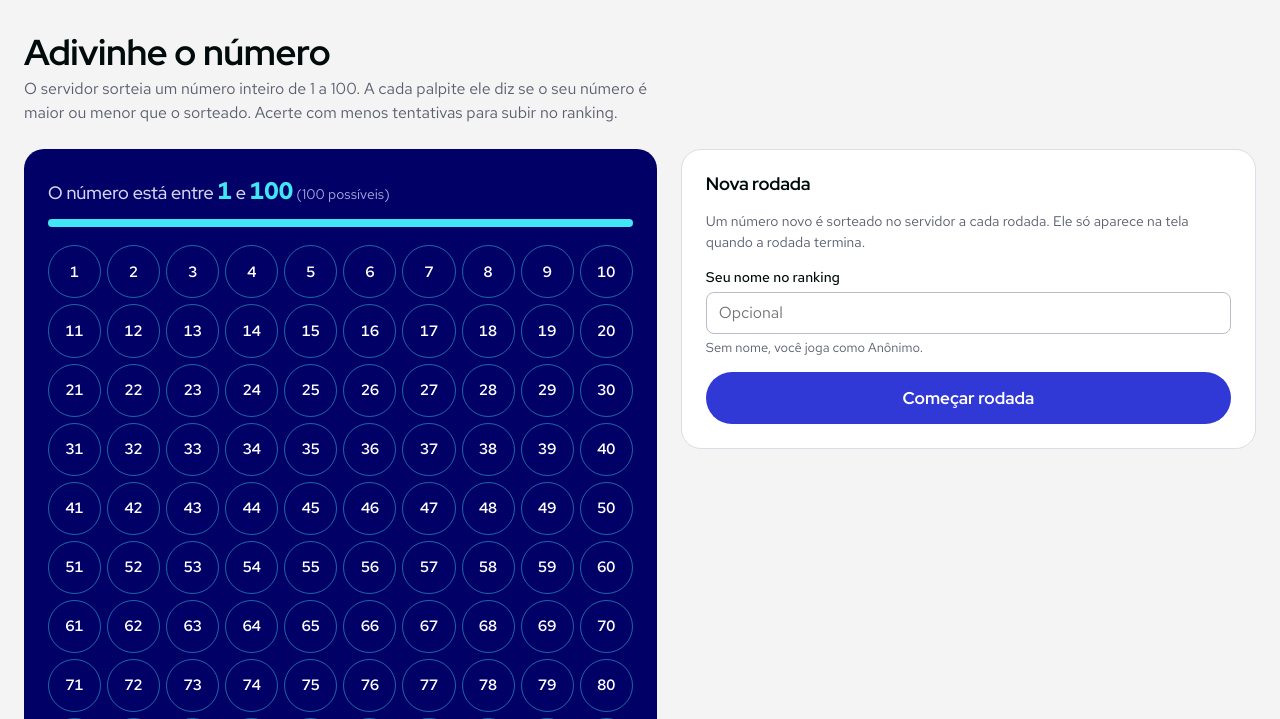
it: <Jogar /> (fluxo completo com a API mockada) › começa uma rodada, recebe 'maior', depois acerta e vê a posição no ranking
In the field labelled "Seu nome no ranking": (968, 313) top-left (706, 292), bottom-right (1231, 334), type "Ana"
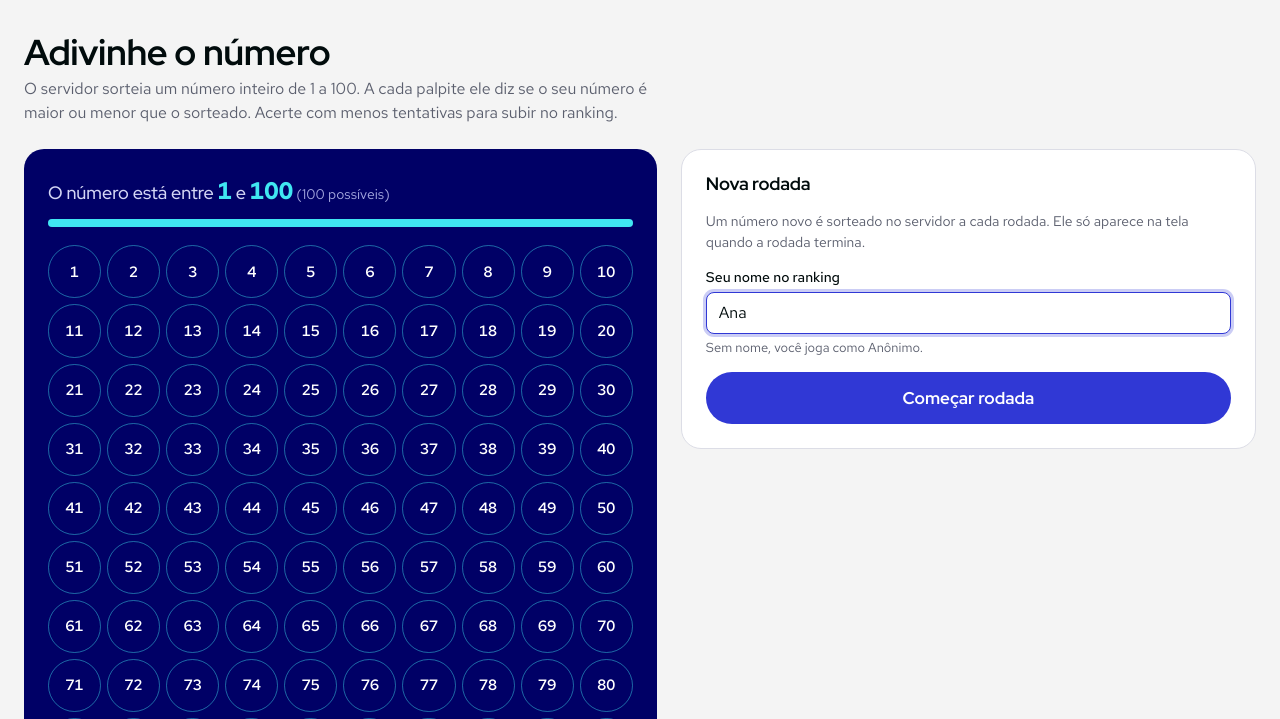
Click the button "Começar rodada": (968, 398) top-left (706, 372), bottom-right (1231, 424)
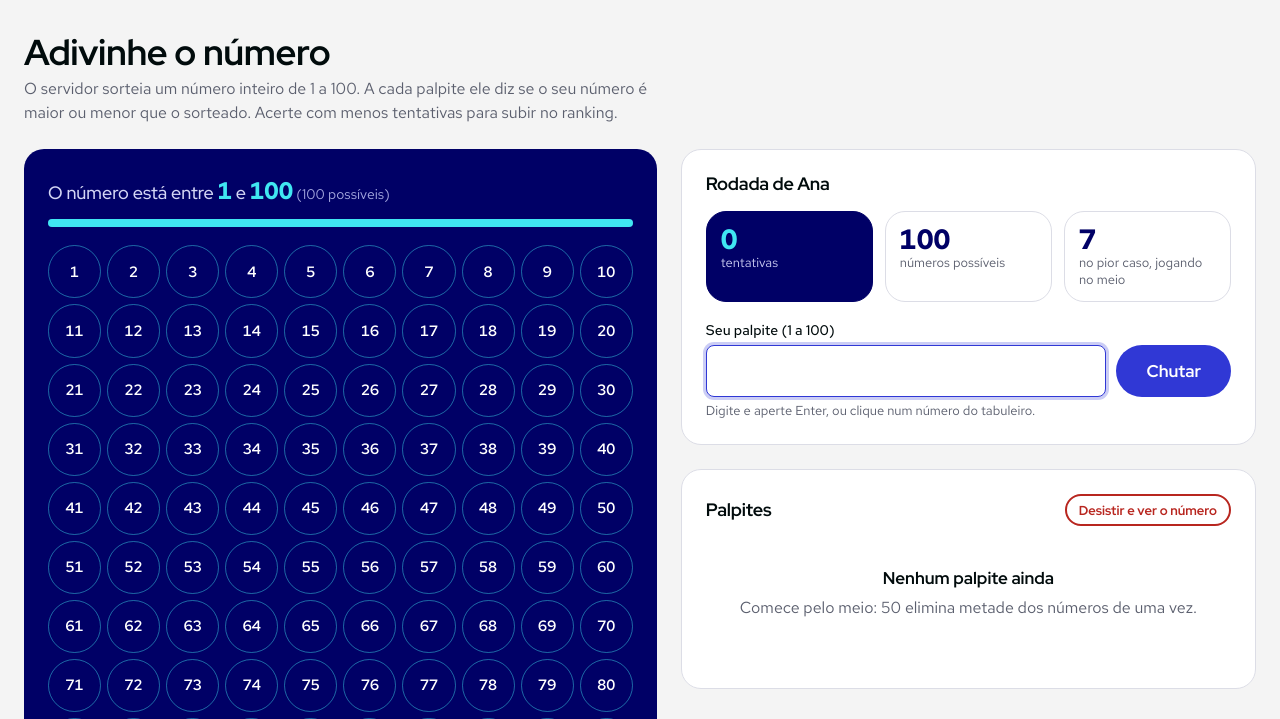
In the field labelled "Seu palpite (1 a 100)": (906, 371) top-left (706, 345), bottom-right (1106, 397), type "50"
Then press Enter
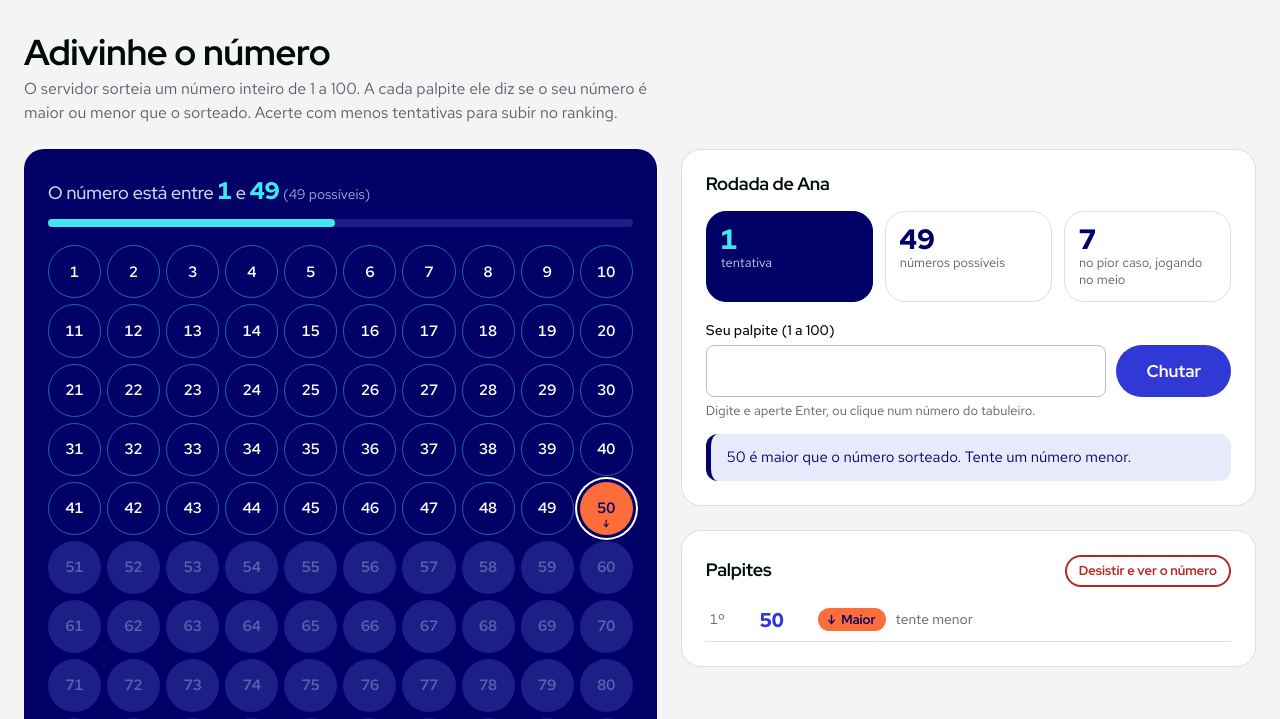
Expected: the text "50 é maior que o número sorteado. Tente um número menor." is shown, top-left (706, 434), bottom-right (1231, 481)
Expected: the text "O número está entre 1 e 49 (49 possíveis)" is shown, top-left (48, 175), bottom-right (370, 206)
In the field labelled "Seu palpite (1 a 100)": (906, 371) top-left (706, 345), bottom-right (1106, 397), type "42"
Then press Enter
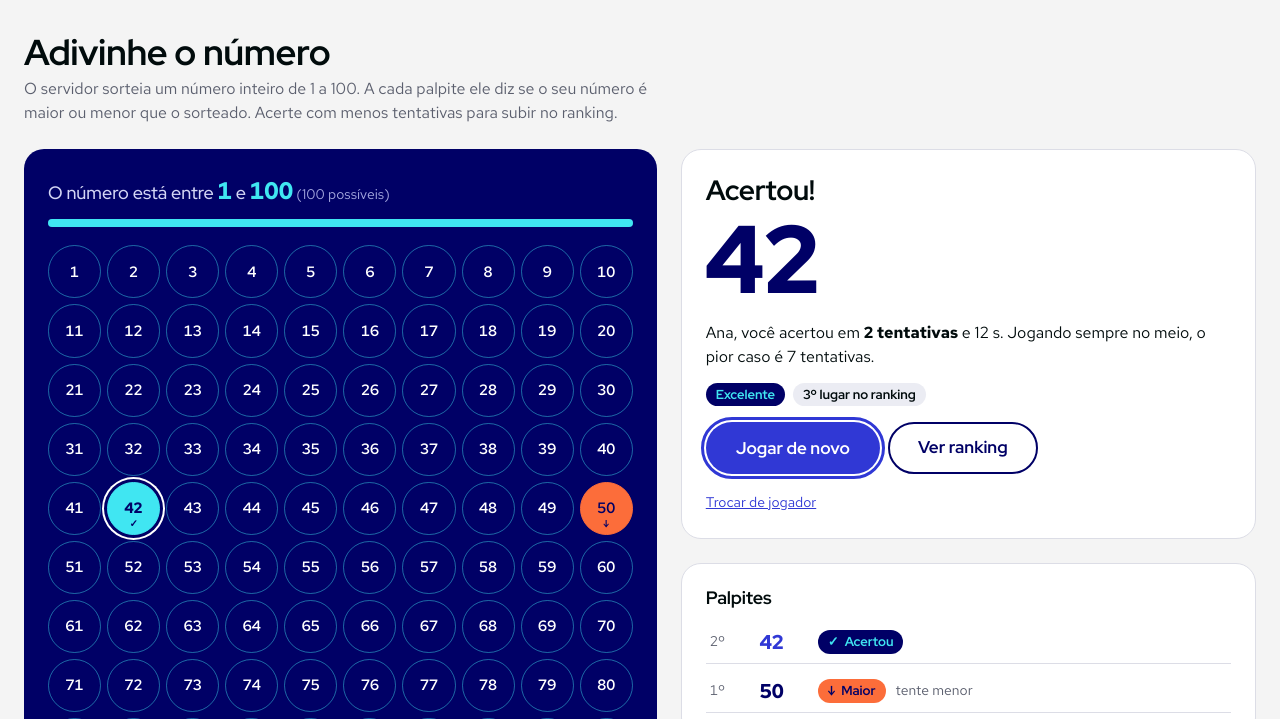
Expected: the heading "Acertou!" is shown, top-left (706, 171), bottom-right (815, 209)
Expected: the text "3º lugar no ranking" is shown, top-left (793, 383), bottom-right (926, 406)
